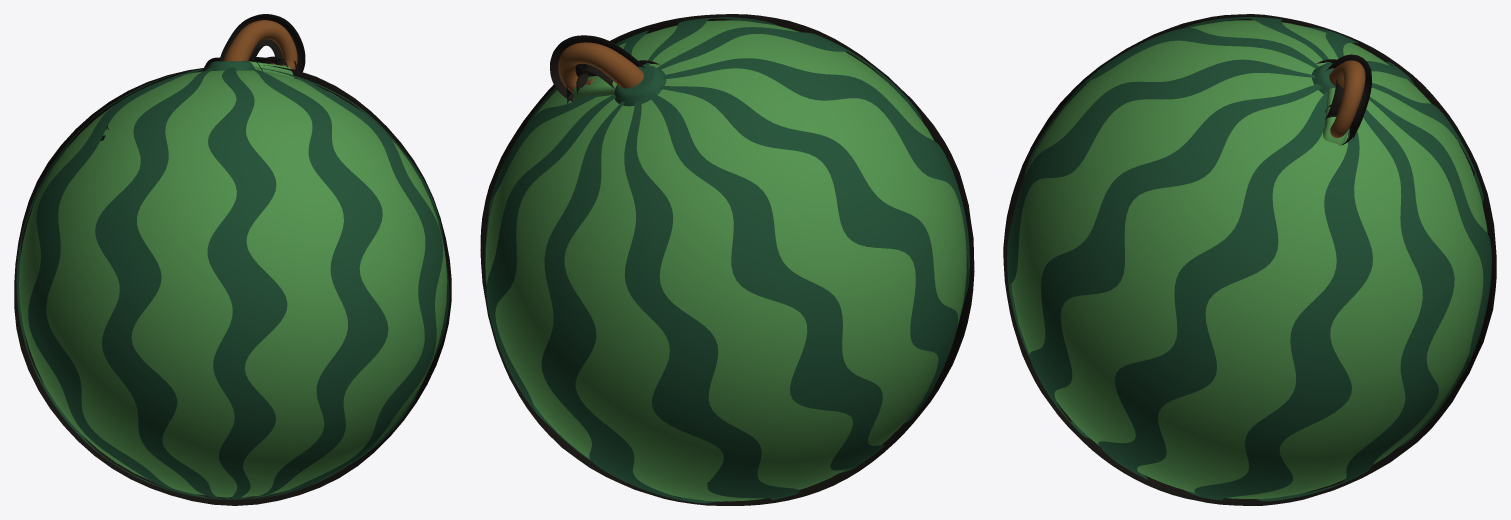
File: melon.glb
The picture shows the model from 3 angles, left to right: view 1: azimuth 30°, elevation 25°; view 2: azimuth 150°, elevation 25°; view 3: azimuth 270°, elevation 25°; orthographic projection. The views are drawn at different scales.
Visible parts, largest first — view 1: Melon, Melon_outline; view 2: Melon, Melon_outline; view 3: Melon, Melon_outline.
Boxes of the visible parts, bbox=[...] form: Melon: bbox=[16, 20, 449, 499]; Melon_outline: bbox=[14, 14, 451, 505]; Melon: bbox=[485, 17, 969, 503]; Melon_outline: bbox=[480, 14, 974, 505]; Melon: bbox=[1007, 17, 1491, 501]; Melon_outline: bbox=[1003, 14, 1496, 505].
Bounding box in the file's own units: 2.26 × 2.35 × 2.26.
